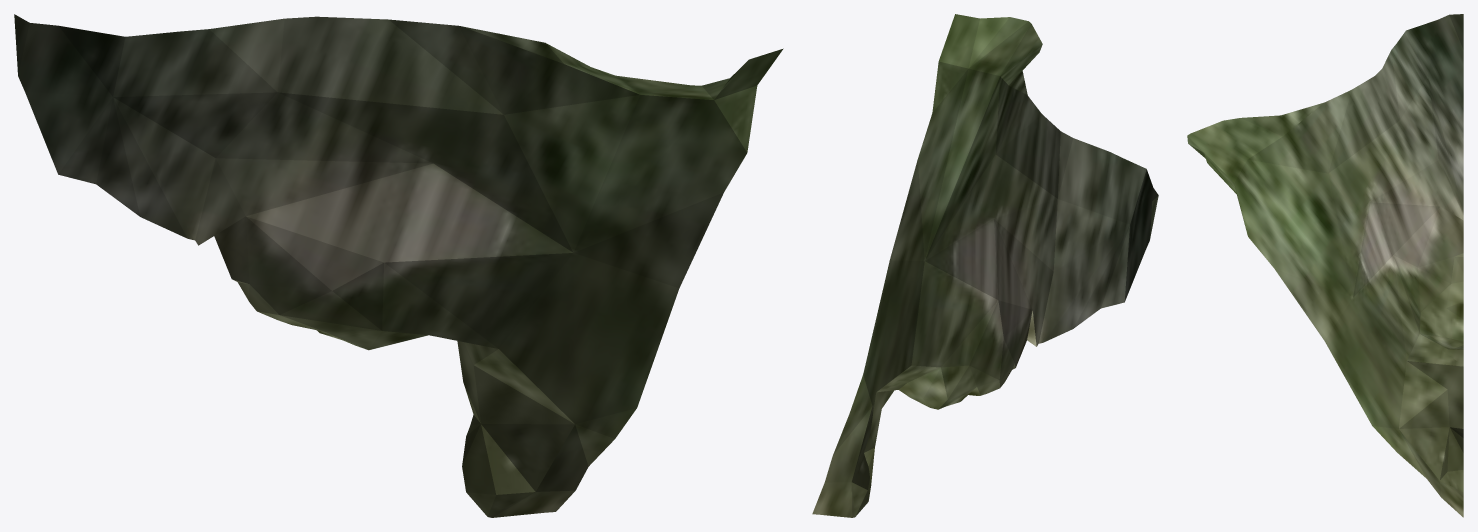
3 views of the same model, side by side, from view 1: azimuth 30°, elevation 25°; view 2: azimuth 150°, elevation 25°; view 3: azimuth 270°, elevation 25° (orthographic). The views are drawn at different scales.
Size of the model in its own units: 2.62 by 2.91 by 2.05.
Materials: 1 (1 with a texture image).
